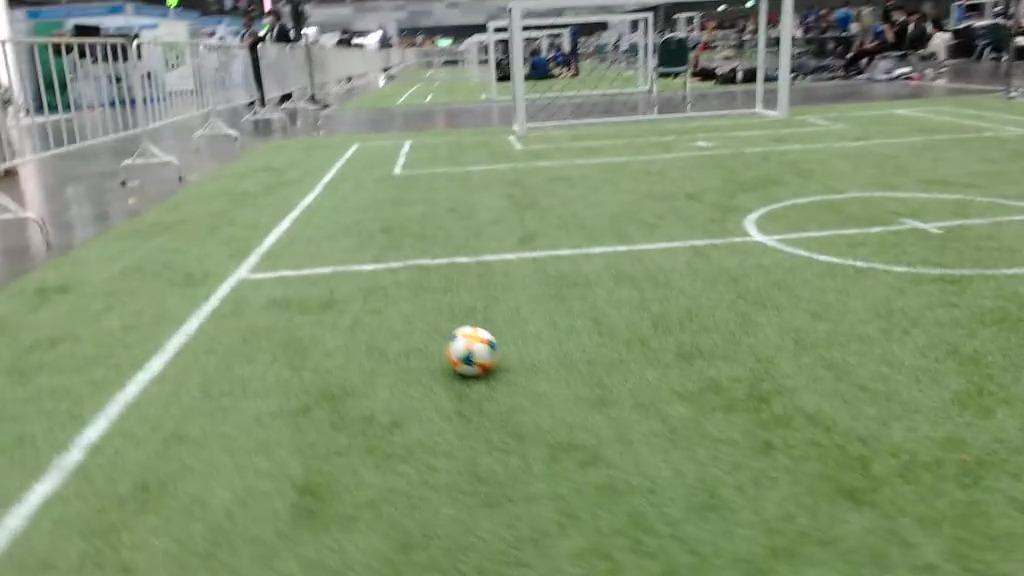ball: (447, 324, 498, 380)
